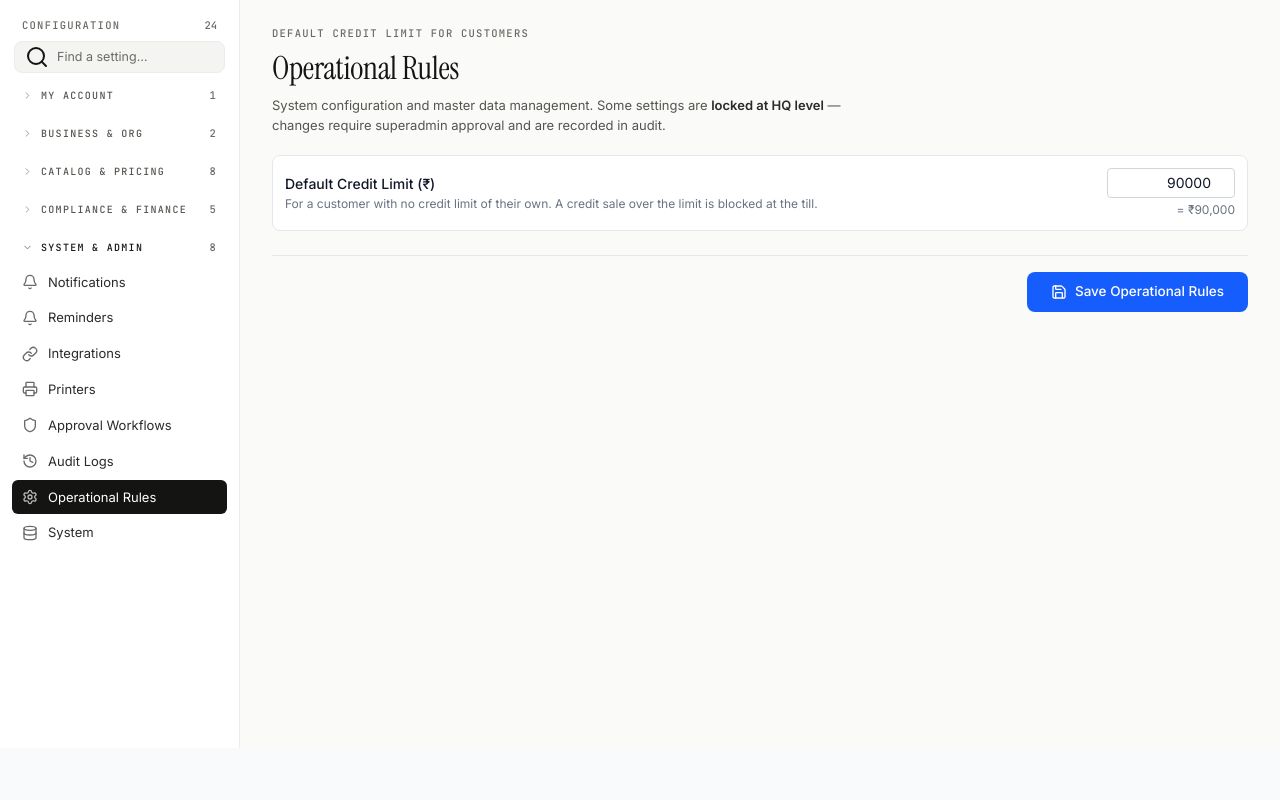
it: /settings/rules: the default credit limit, nothing else › a cleared box stays empty (no 0 put back), and the amount reads in Indian digits
Clear the number field showing "90000" at (1171, 183), box [1107, 168, 1235, 198]
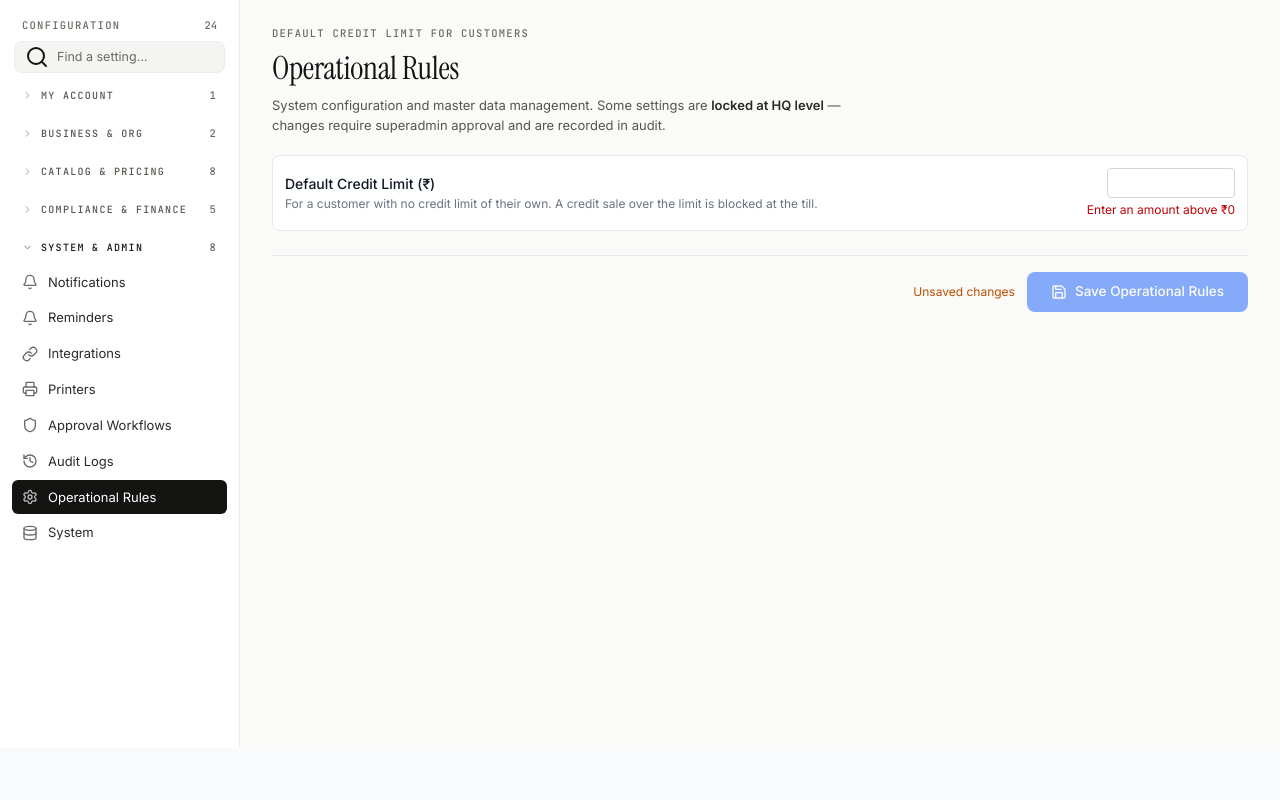
Type "150000" into the number field showing "90000" at (1171, 183), box [1107, 168, 1235, 198]
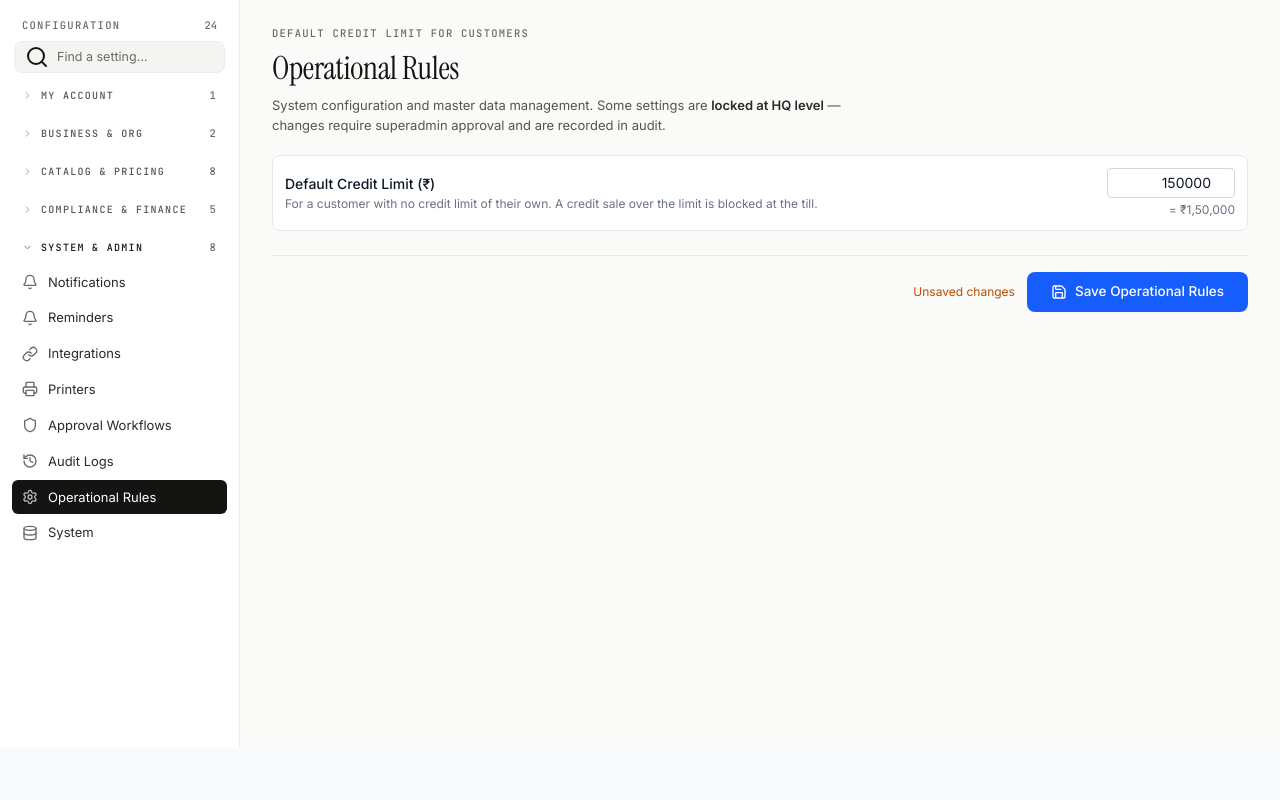
Check: the text "= ₹1,50,000" is shown, box [1169, 202, 1235, 217]
Replace the text in the number field named "Default Credit Limit (₹)" with "1500000" at (1171, 183), box [1107, 168, 1235, 198]
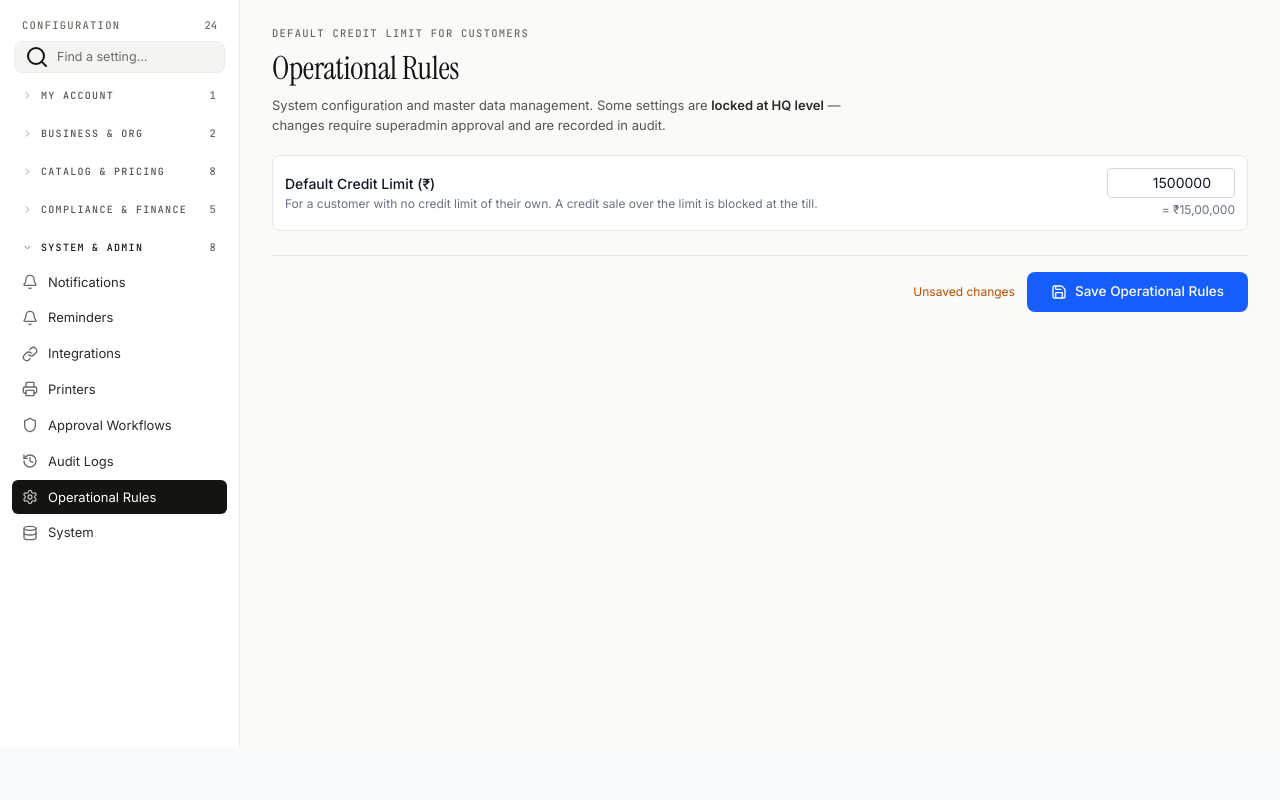
Check: the text "= ₹15,00,000" is shown, box [1162, 202, 1235, 217]
